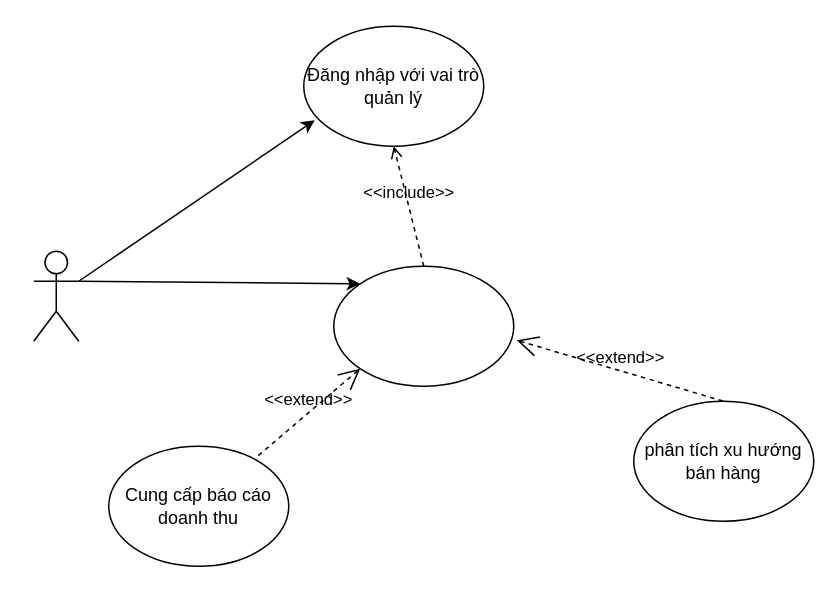
This 840x593 diagram has some shape labels left out. Each missing label, with the box of its shape:
Báo cáo và thống kê: (332, 265, 514, 386)
Quản lý: (32, 250, 79, 341)
